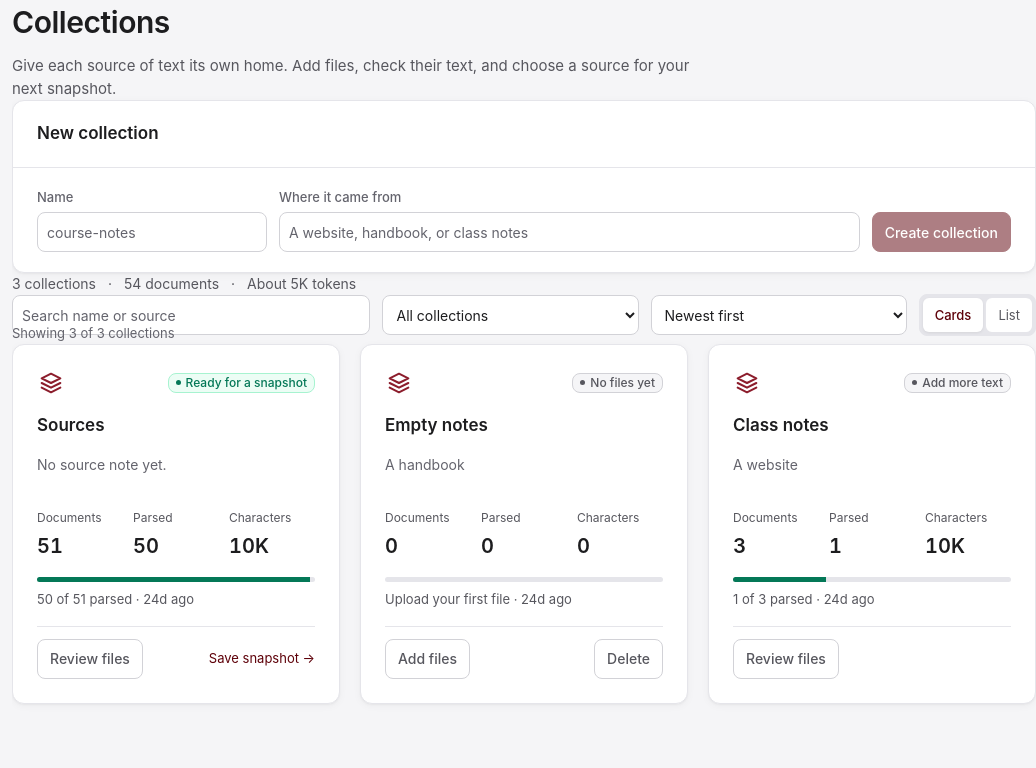
Scenario: searches source notes, filters eligibility, switches view, and clears no matches
This screenshot has width=1036, height=768.
Expected: the element "Sources" is shown, x1=12 y1=344 x2=340 y2=704
Step 1. Type "handbook" into the field named "Find collections" → [191, 315], box x1=12 y1=295 x2=370 y2=335
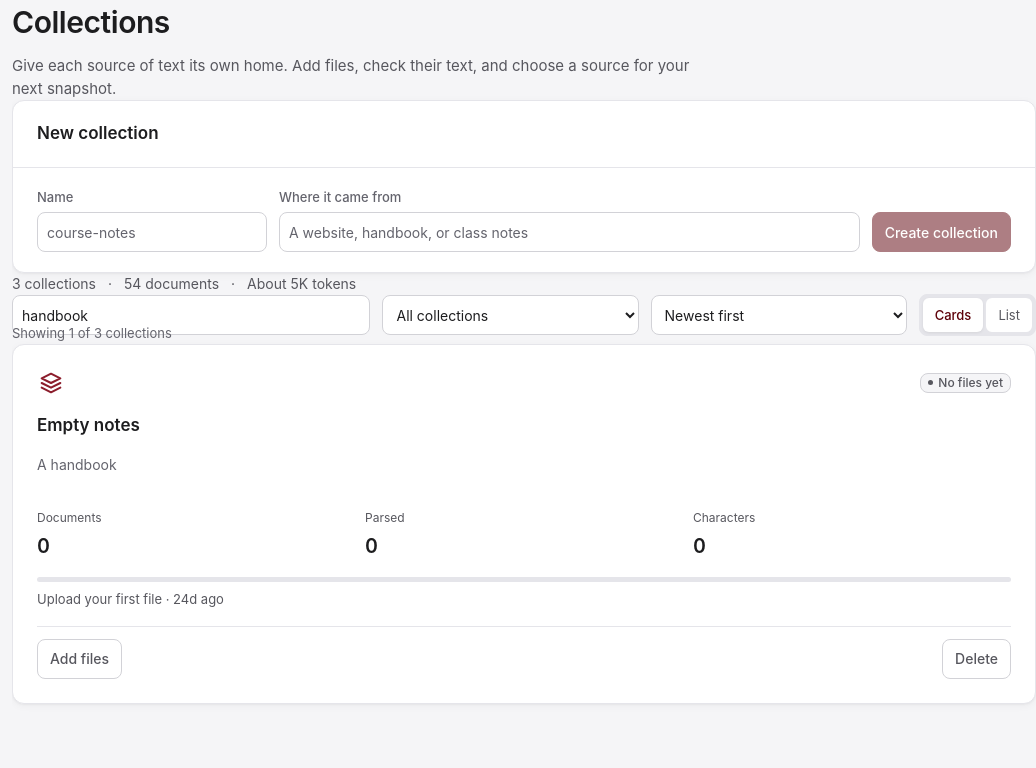
Expected: the element "Empty notes" is shown, x1=12 y1=344 x2=1035 y2=704
Step 2. Select "Ready for a snapshot" in the dropdown named "Filter collections" → [511, 315], box x1=382 y1=295 x2=639 y2=335
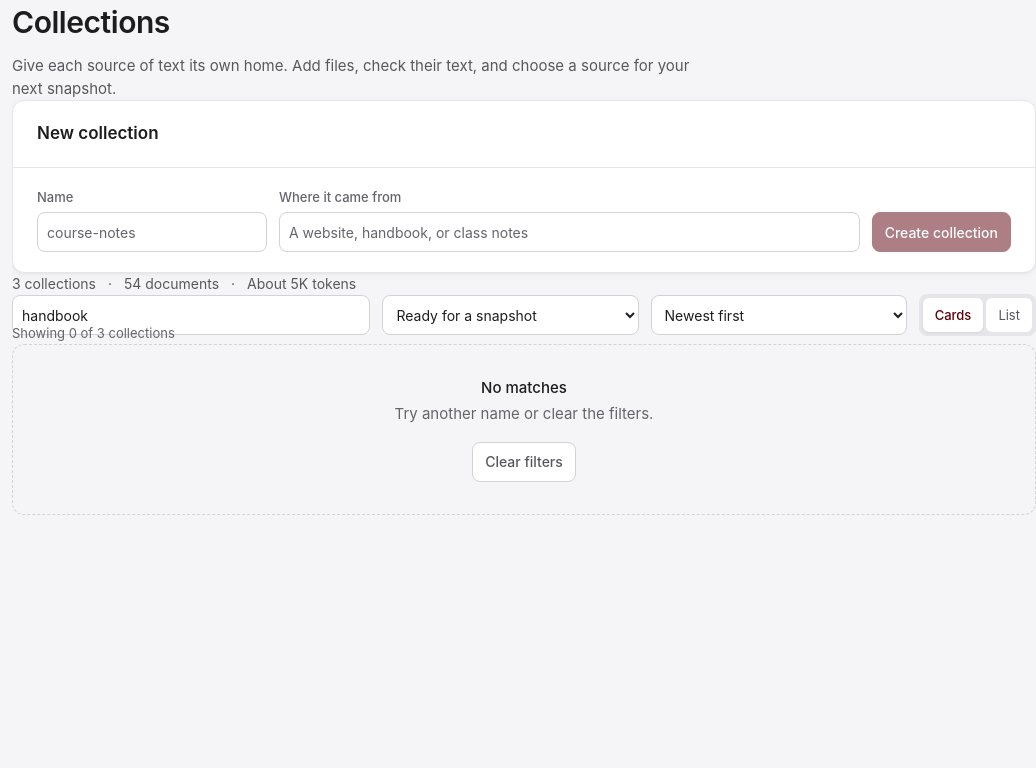
Expected: the text "No matches" is shown, x1=481 y1=378 x2=567 y2=396
Step 3. Click the button "Clear filters" → [524, 462], box x1=472 y1=442 x2=576 y2=482
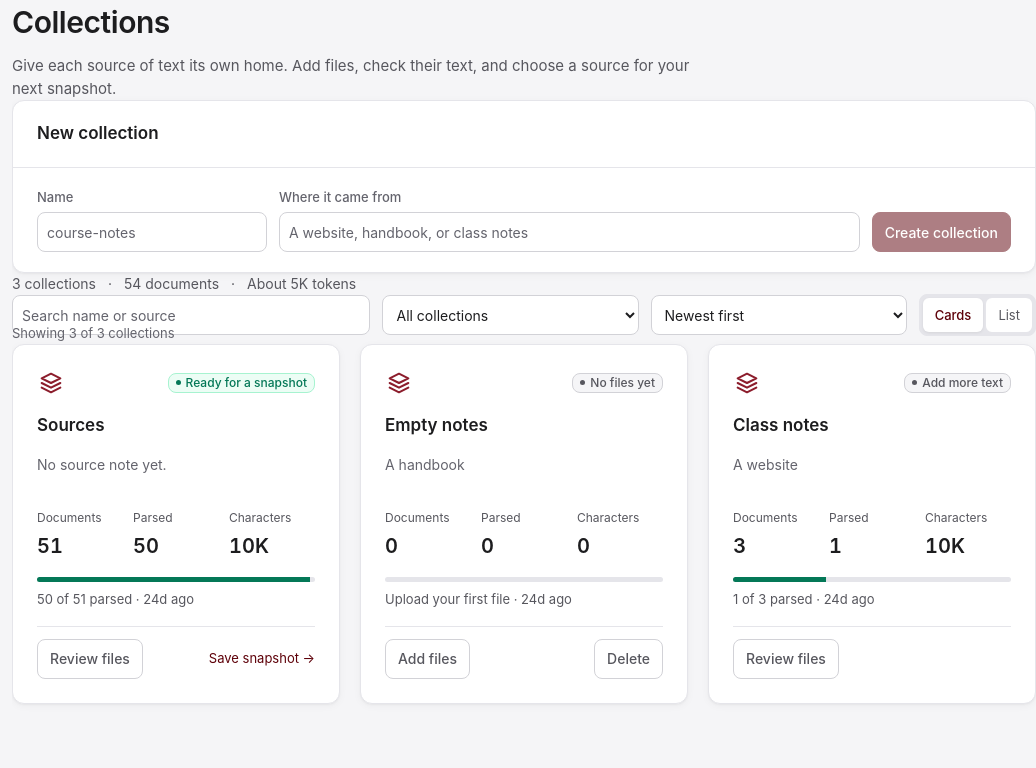
Step 4. Select "Ready for a snapshot" in the dropdown named "Filter collections" → [511, 315], box x1=382 y1=295 x2=639 y2=335
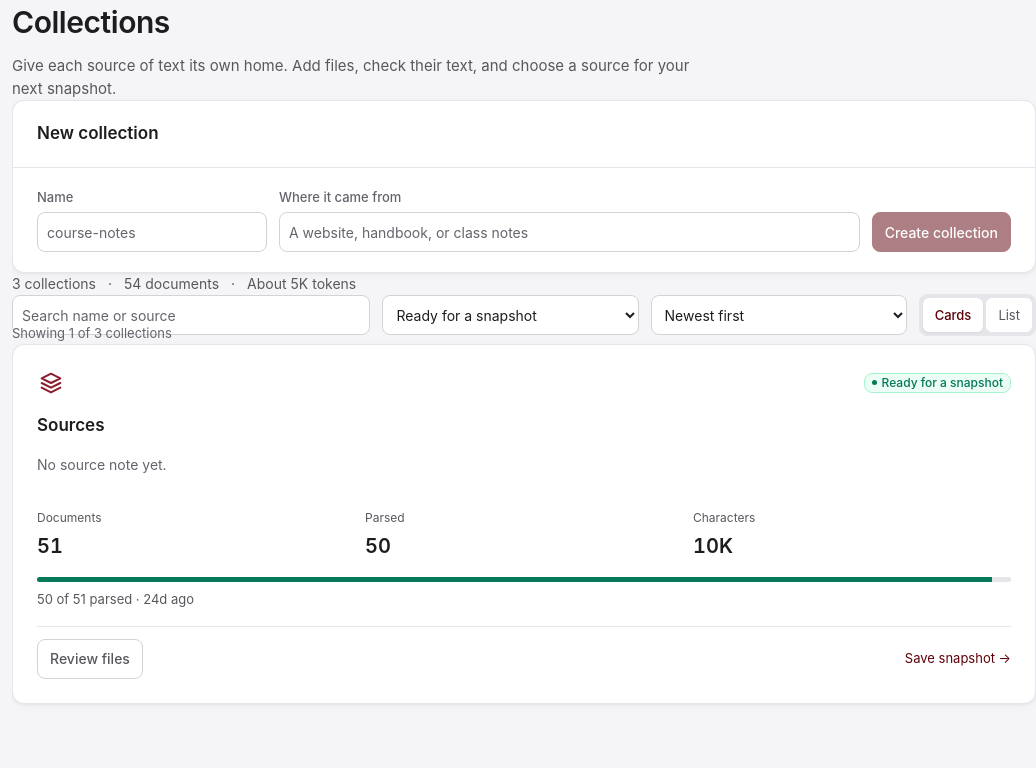
Step 5. Click the button "List" → [1009, 315], box x1=986 y1=298 x2=1032 y2=332
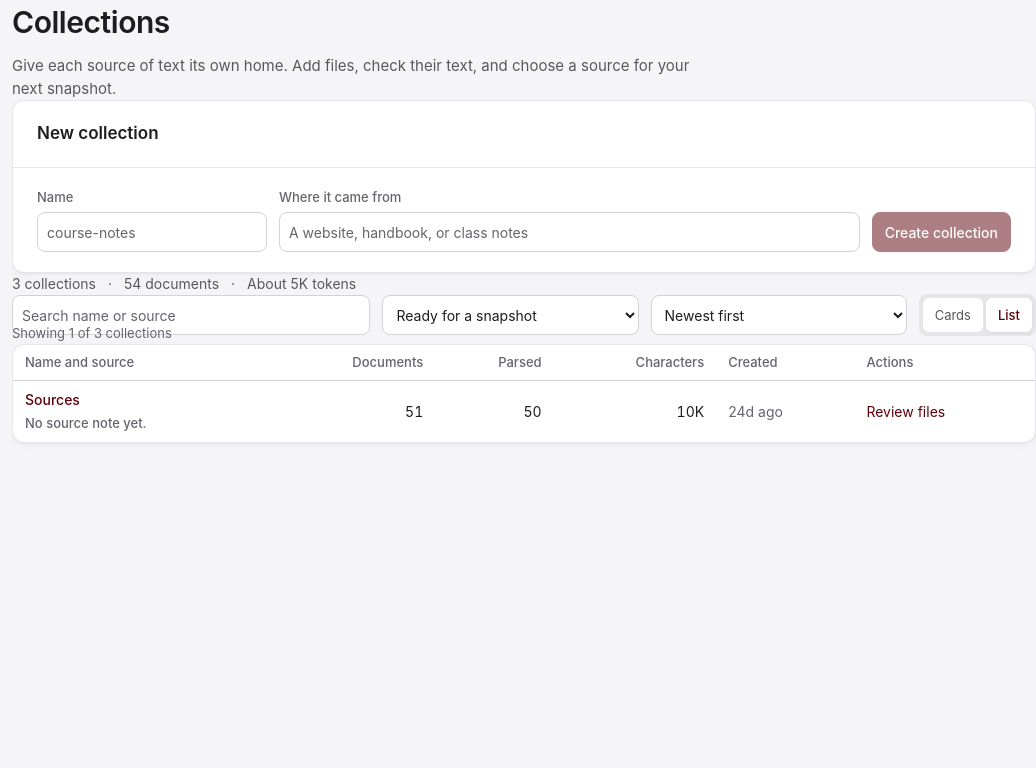
Expected: the number of rows is 2, x1=13 y1=344 x2=1035 y2=380; x1=13 y1=380 x2=1035 y2=442
